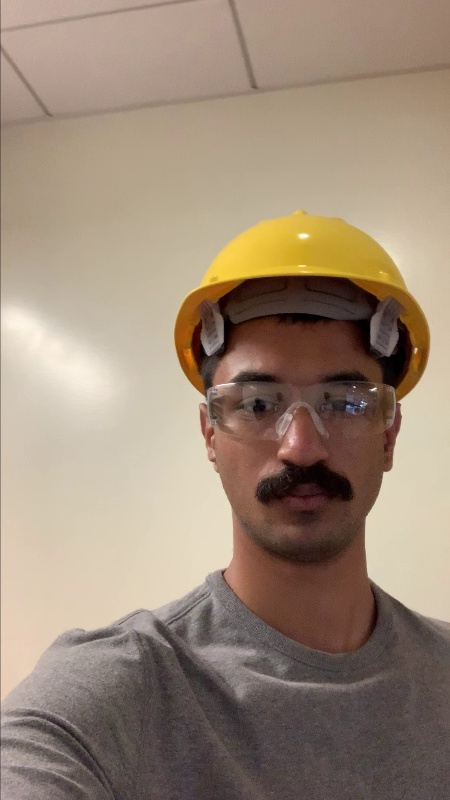glasses: (206, 372, 396, 441)
helmet: (182, 210, 416, 310)
